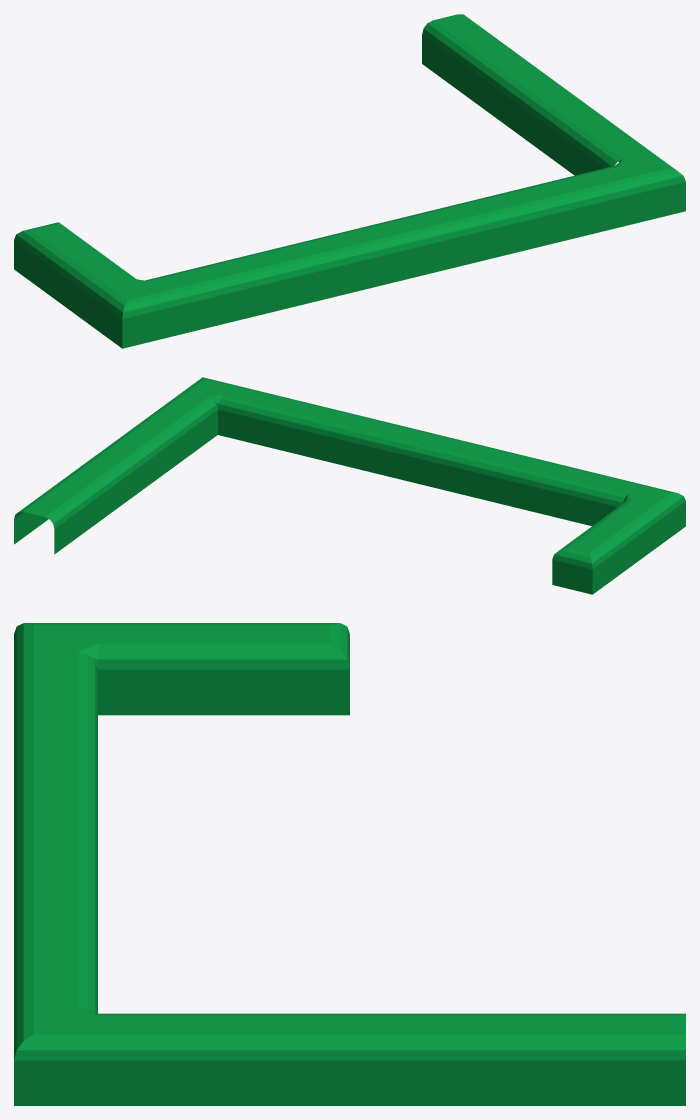
File: parkGrass0218.fbx
3 renders of one model, top to bottom at view 1: azimuth 30°, elevation 25°; view 2: azimuth 150°, elevation 25°; view 3: azimuth 270°, elevation 25°, orthographic. The views are drawn at different scales.
Visible parts, largest first — view 1: bushes.016; view 2: bushes.016; view 3: bushes.016.
Boxes of the visible parts, <box> form: bushes.016: <box>14,14,685,348</box>; bushes.016: <box>14,377,685,594</box>; bushes.016: <box>14,623,685,1105</box>.
Bounding box in the file's own units: 1296 × 90 × 864.
